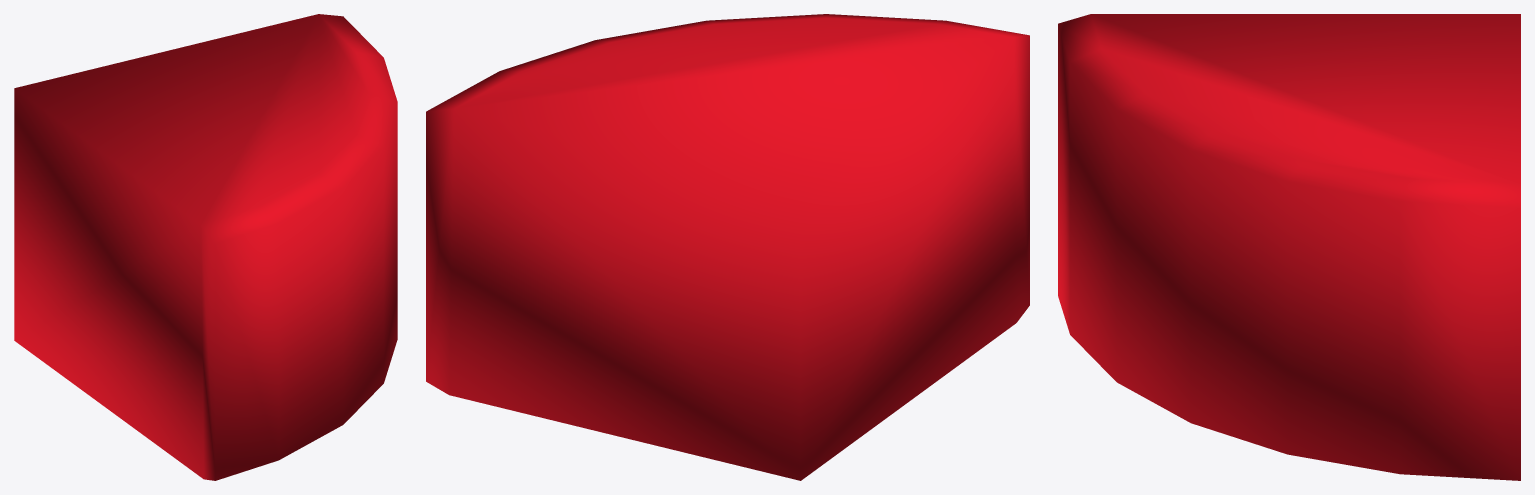
Rendered from QuartoFormaggioStagionato.fbx.
3 views of the same model, side by side, from view 1: azimuth 30°, elevation 25°; view 2: azimuth 150°, elevation 25°; view 3: azimuth 270°, elevation 25° (orthographic). The views are drawn at different scales.
Parts seen in each view (by area): view 1: QuartoDiFormaFormaggio.001; view 2: QuartoDiFormaFormaggio.001; view 3: QuartoDiFormaFormaggio.001.
Part boxes in pixels (box(x1,y1,x2,y2)): QuartoDiFormaFormaggio.001: box(14, 14, 397, 480); QuartoDiFormaFormaggio.001: box(426, 14, 1029, 480); QuartoDiFormaFormaggio.001: box(1058, 14, 1520, 480).
Bounding box in the file's own units: 365 × 267 × 386.
